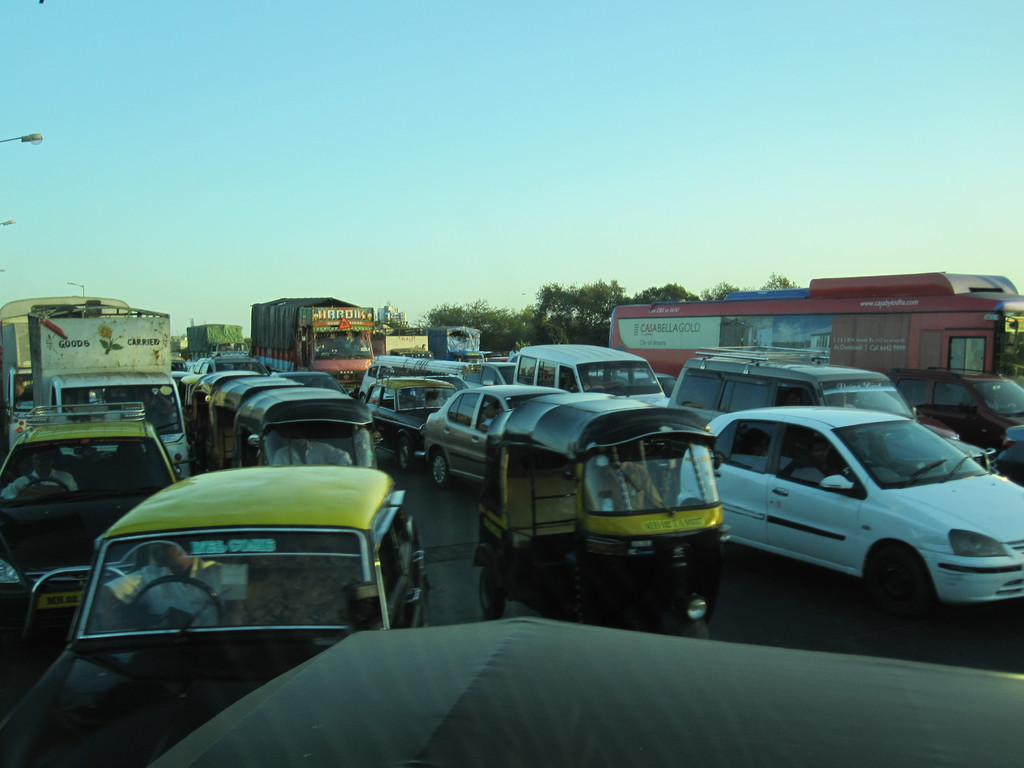person: (0, 444, 79, 497)
